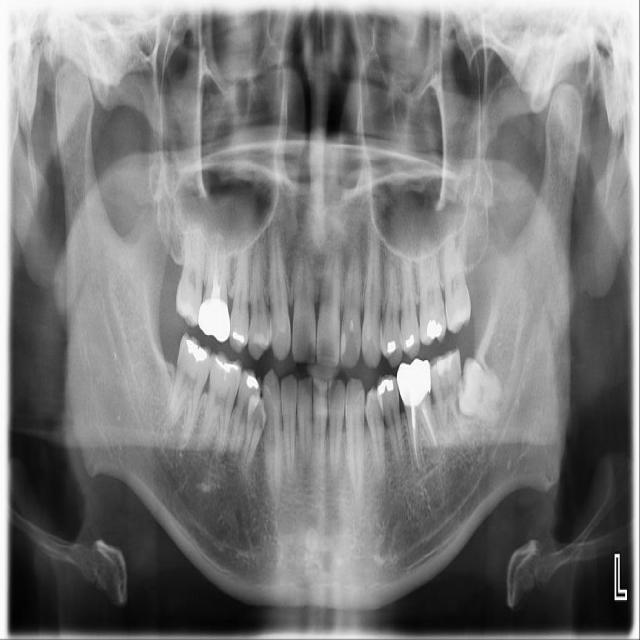Crown: (397, 359, 431, 408), (198, 297, 230, 344)
Filling: (185, 339, 207, 363), (432, 355, 455, 375), (215, 358, 238, 374), (426, 319, 442, 340), (378, 379, 393, 394), (247, 375, 258, 390), (232, 331, 244, 344), (387, 340, 396, 354), (405, 335, 414, 347)
Root Canal Treatment: (422, 406, 435, 447), (412, 410, 418, 469), (214, 241, 218, 284), (222, 253, 224, 284)
impacted tooth: (459, 360, 509, 422)
